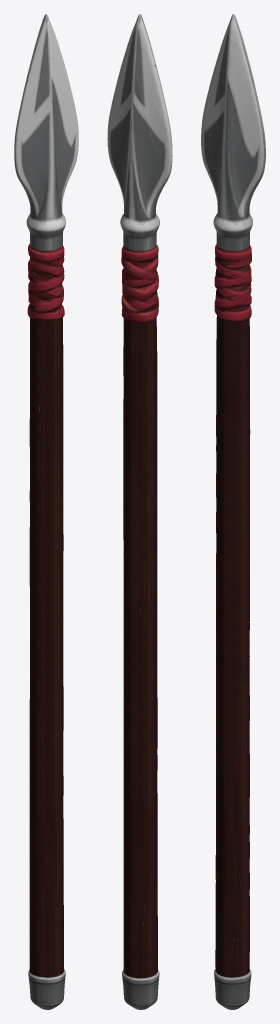
Rendered from spear.glb.
3 renders of one model, left to right at view 1: azimuth 30°, elevation 25°; view 2: azimuth 150°, elevation 25°; view 3: azimuth 330°, elevation 25°, orthographic.
Visible parts, largest first — view 1: grip; view 2: grip; view 3: grip.
Boxes of the visible parts, bbox=[...] form: grip: bbox=[14, 14, 78, 1009]; grip: bbox=[107, 14, 172, 1009]; grip: bbox=[201, 14, 265, 1009].
Bounding box in the file's own units: 0.1348 × 2 × 0.073.
Materials: 1 (1 with a texture image).
